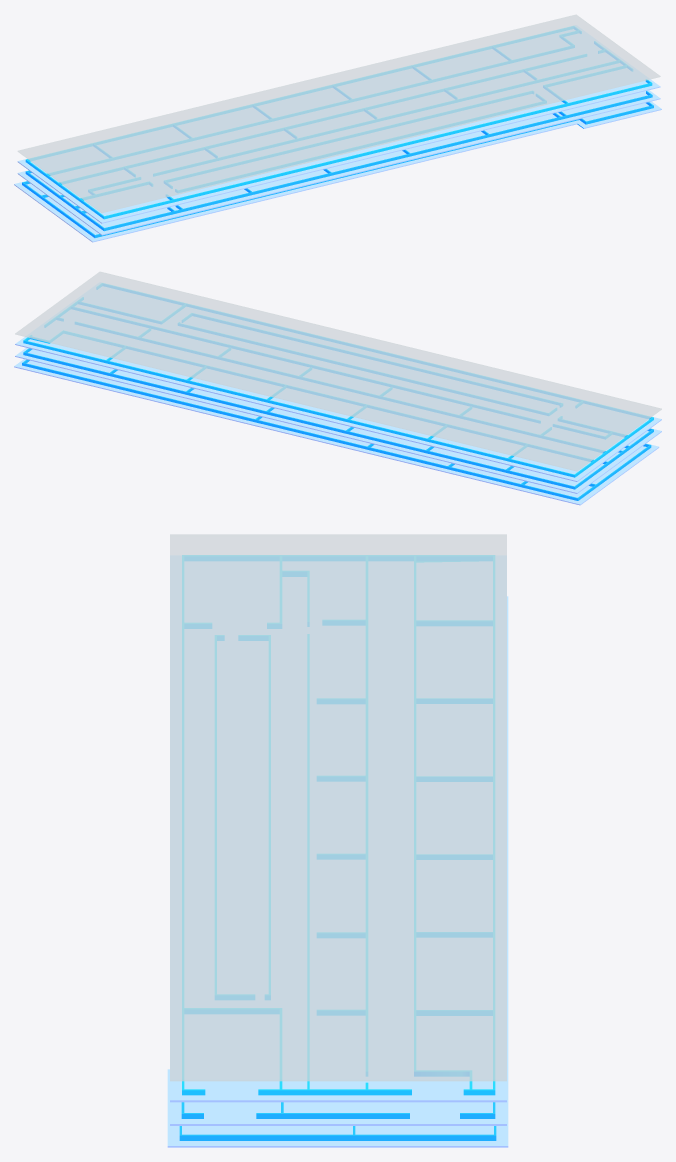
File: floor.glb
3 renders of one model, top to bottom at view 1: azimuth 30°, elevation 25°; view 2: azimuth 150°, elevation 25°; view 3: azimuth 270°, elevation 25°, orthographic. The views are drawn at different scales.
Parts seen in each view (by area): view 1: floor_up, ID134001_1, ID134001, ID18001_1, ID147001_1, ID18001, ID147001; view 2: floor_up, ID134001_1, ID134001, ID18001_1, ID147001_1, ID18001, ID147001; view 3: floor_up, ID134001_1, ID134001, ID147001_1, ID18001_1, ID147001, ID18001.
Part boxes in pixels (x1,y1,x2,y2): floor_up: (17,14,660,213); ID134001_1: (17,25,660,223); ID134001: (25,26,652,219); ID18001_1: (17,90,660,235); ID147001_1: (14,101,661,242); ID18001: (25,91,652,231); ID147001: (22,102,653,237); floor_up: (15,271,661,471); ID134001_1: (15,282,661,481); ID134001: (23,283,653,477); ID18001_1: (15,348,661,493); ID147001_1: (14,359,659,505); ID18001: (23,348,653,489); ID147001: (22,359,651,500); floor_up: (170,534,506,1081); ID134001_1: (170,555,506,1102); ID134001: (182,555,495,1095); ID147001_1: (167,596,508,1147); ID18001_1: (170,1102,506,1125); ID147001: (179,1126,496,1140); ID18001: (181,1102,495,1118).
Bounding box in the file's own units: 187 × 10.68 × 48.97.
